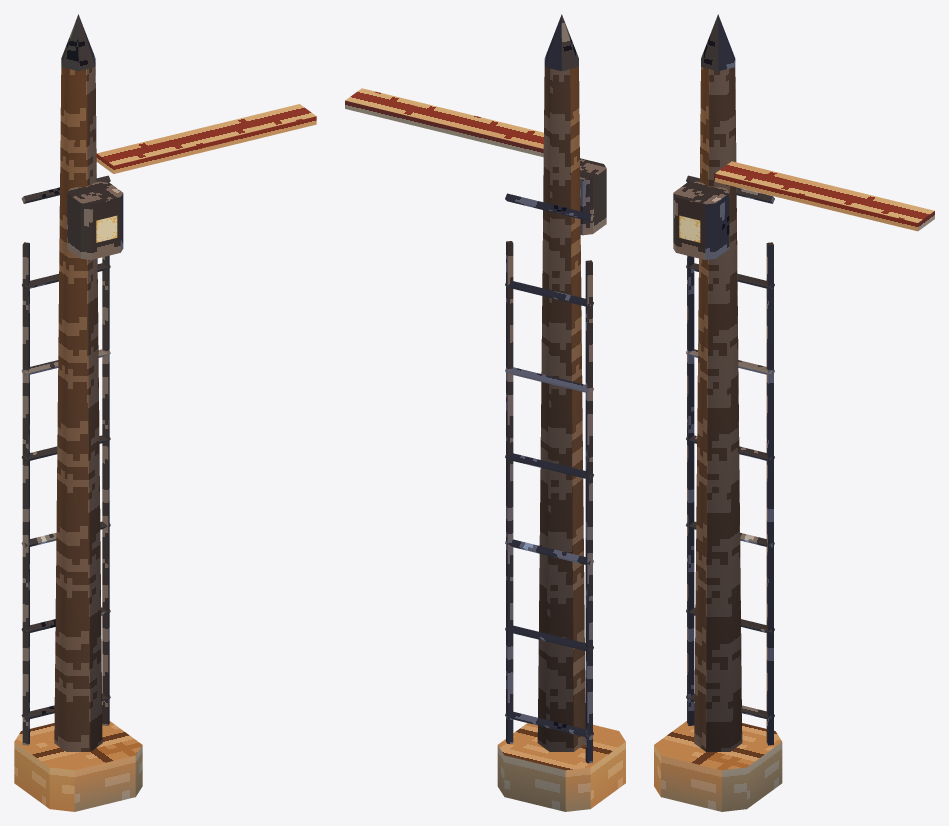
Rendered from wrail.signal.glb.
3 views of the same model, side by side, from view 1: azimuth 30°, elevation 25°; view 2: azimuth 150°, elevation 25°; view 3: azimuth 330°, elevation 25° (orthographic).
Parts seen in each view (by area): view 1: kit_mast, kit_ladder, kit_base, kit_arm, kit_lamp, kit_cap; view 2: kit_mast, kit_ladder, kit_base, kit_arm, kit_lamp, kit_cap; view 3: kit_mast, kit_ladder, kit_base, kit_arm, kit_lamp, kit_cap.
Boxes of the visible parts, x1,y1,x2,y2 form: kit_mast: (54,67,102,751); kit_ladder: (21,175,110,745); kit_base: (14,721,142,811); kit_arm: (96,104,316,173); kit_lamp: (67,181,123,259); kit_cap: (61,14,95,71); kit_mast: (537,67,585,751); kit_ladder: (505,193,593,763); kit_base: (497,723,625,811); kit_arm: (345,88,543,157); kit_lamp: (580,158,606,235); kit_cap: (544,14,578,71); kit_mast: (694,67,742,751); kit_ladder: (686,175,774,745); kit_base: (654,721,782,811); kit_arm: (715,161,934,231); kit_lamp: (673,181,729,259); kit_cap: (701,14,735,71).
Size of the model in its own units: 2 by 5.55 by 0.72.
5 materials, 5 textured.
